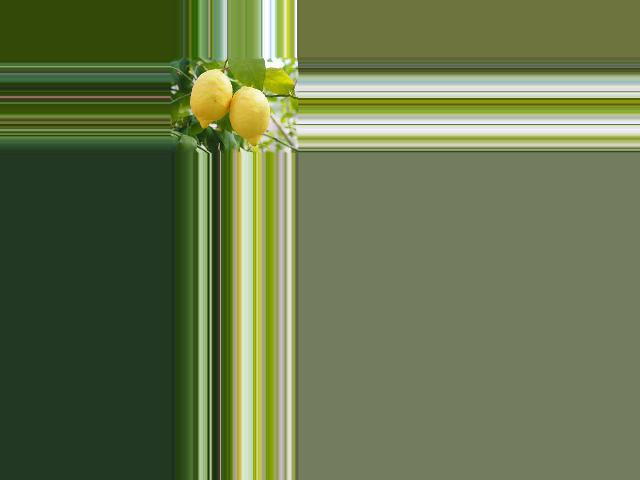lemon: (226, 82, 274, 144)
